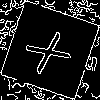X: (25, 25, 80, 76)
